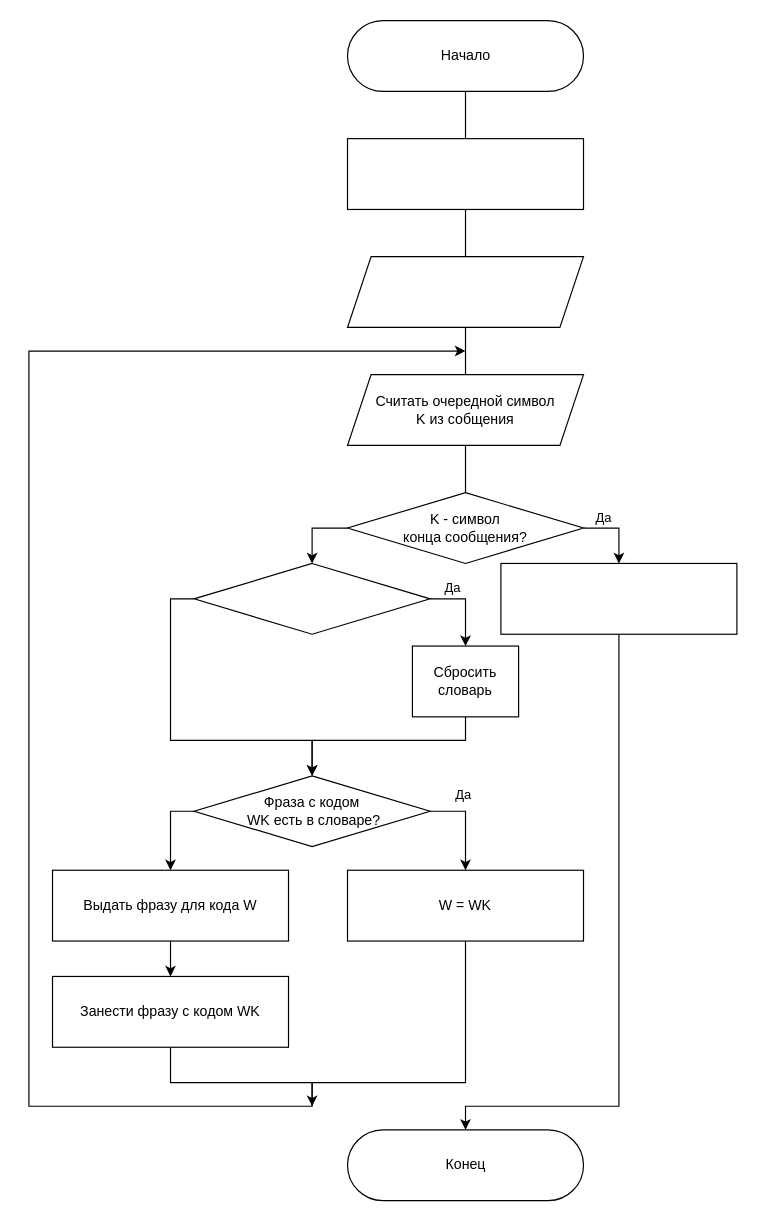
Image size: 758x1221. Some labels were removed from this diagram. The centre of each missing label's shape, as x and y in pixels:
"K - символ сброса словаря?" goes at (311,598).
"Выдать код для W из словаря" goes at (618,598).
"Заполнить словарь всеми возможными символами" goes at (465,173).
"Считать во входную фразу W первый символ сообщения" goes at (465,291).
